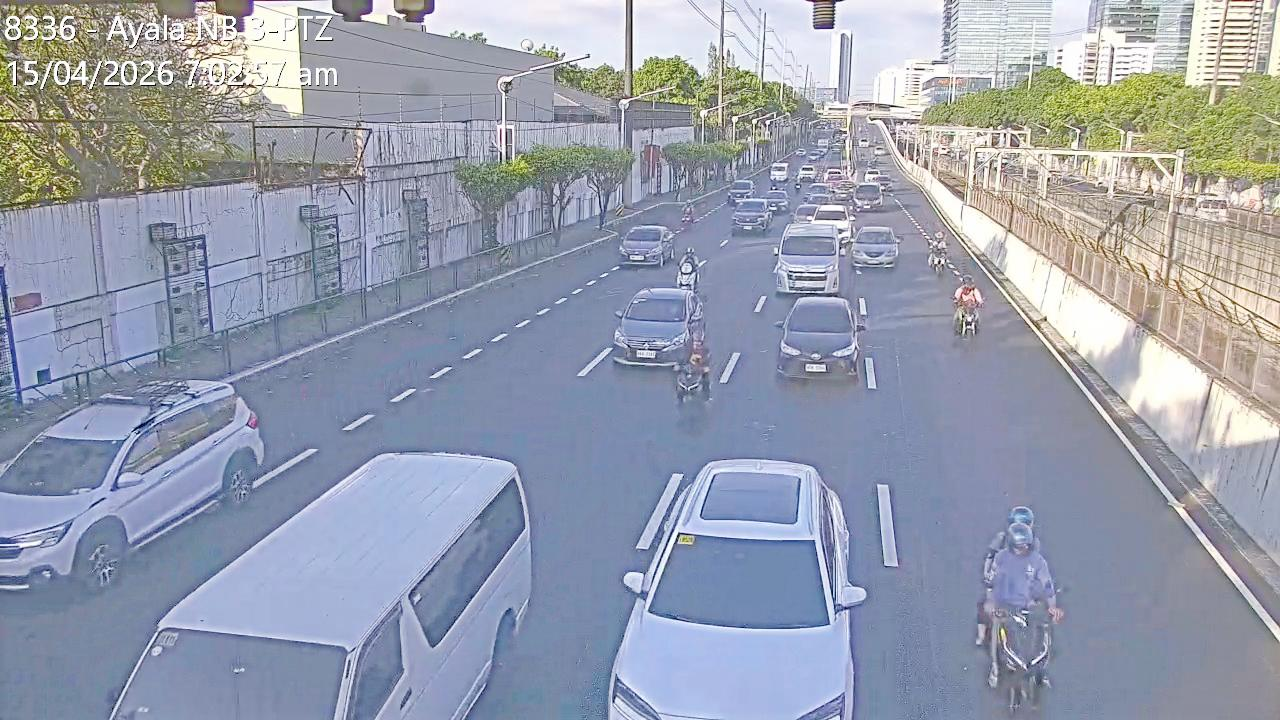Car: (98, 449, 522, 712), (610, 458, 863, 714), (0, 376, 264, 588), (611, 284, 706, 369), (775, 295, 865, 384), (770, 221, 844, 294), (618, 223, 676, 267), (803, 204, 856, 249), (849, 224, 901, 268), (729, 196, 775, 235), (802, 183, 834, 209), (727, 179, 756, 205), (764, 186, 790, 214), (862, 169, 882, 186)
Motor: (979, 537, 1061, 704), (951, 276, 983, 339), (681, 324, 712, 386), (675, 242, 697, 290), (927, 244, 947, 277)
Not Accident: (614, 286, 712, 408), (774, 202, 901, 294), (616, 219, 704, 290), (726, 174, 780, 241)
